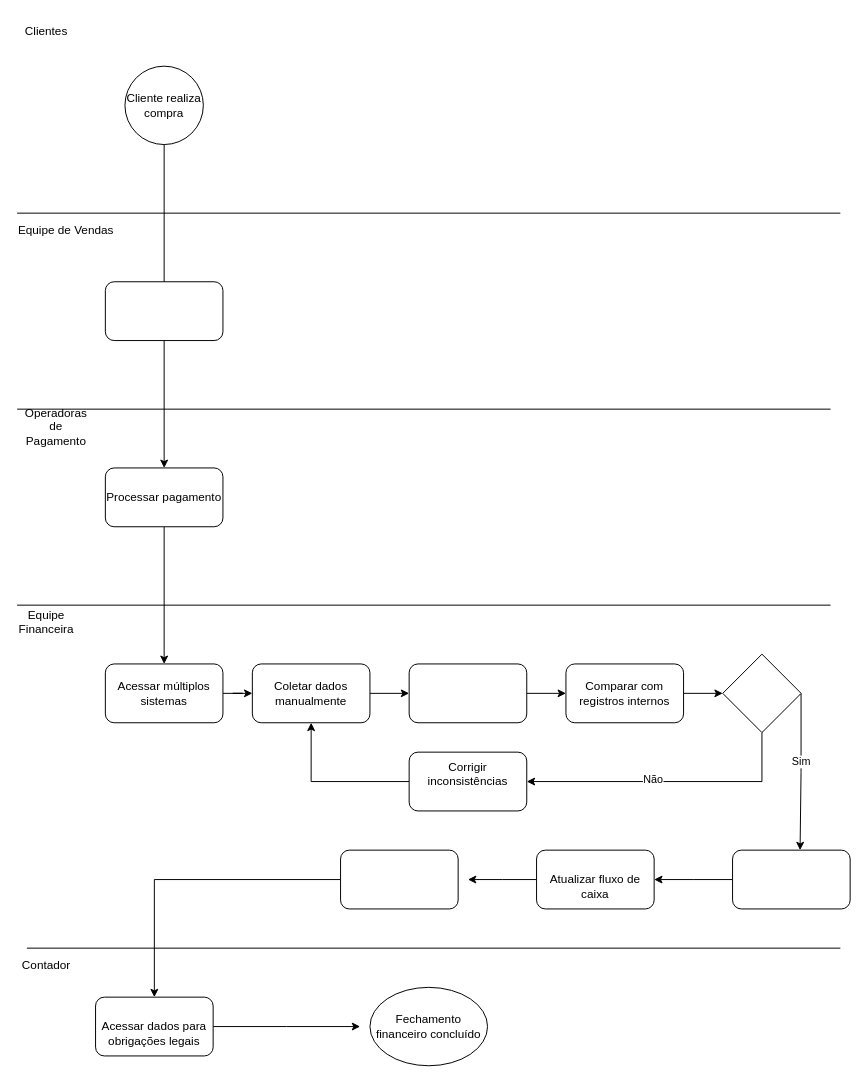
The diagram is 867 pixels wide and 1083 high, and some of its shapes have lost their labels. Here are the shapes that lost their labels. From the top down, the centre of each, then its label:
the point at 163,311: Registrar venda no sistema
the point at 467,693: Conferir extratos bancários
the point at 761,693: Dados conferem?
the point at 399,879: Gerar relatórios
the point at 791,879: Lançar dados em planilhas
